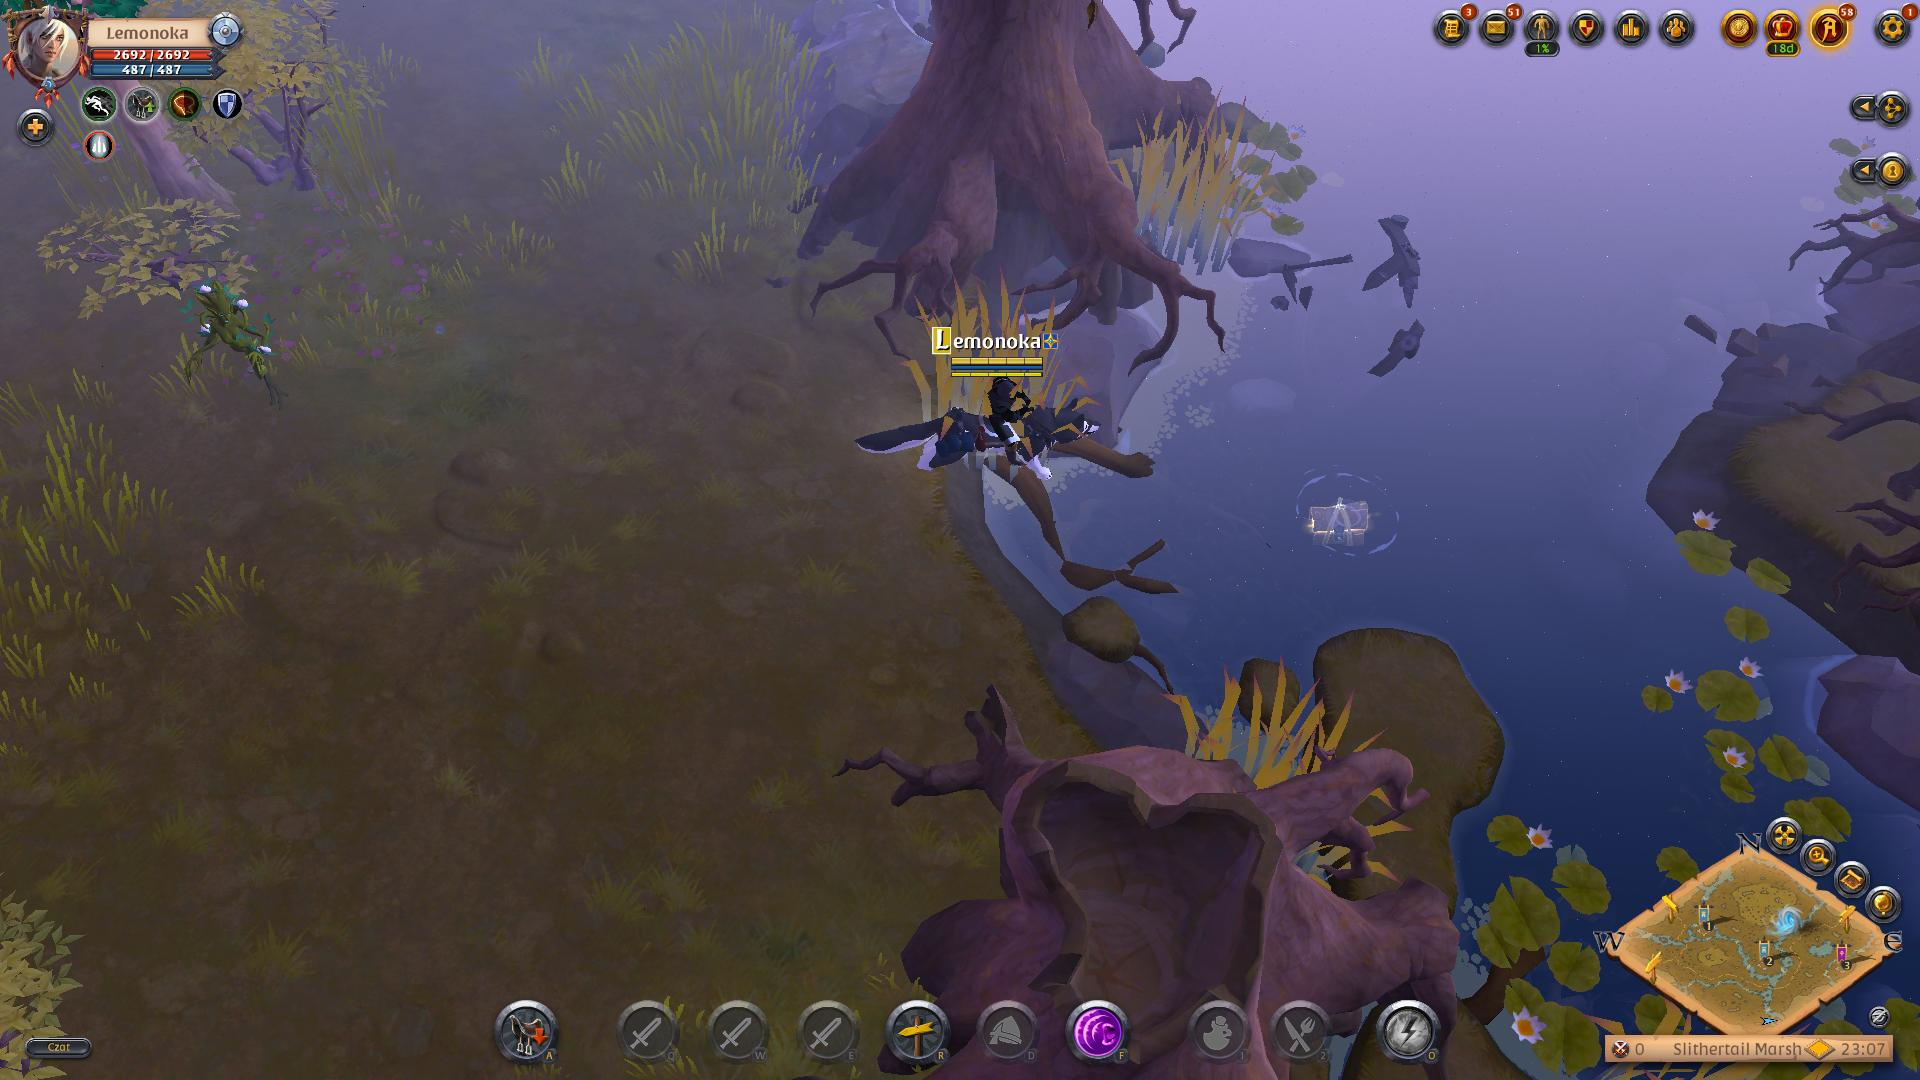fish: (1283, 456, 1422, 576)
